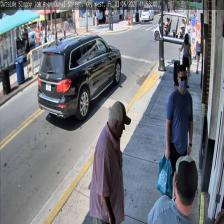person: (89, 101, 131, 224), (165, 64, 193, 212), (148, 155, 198, 223)
